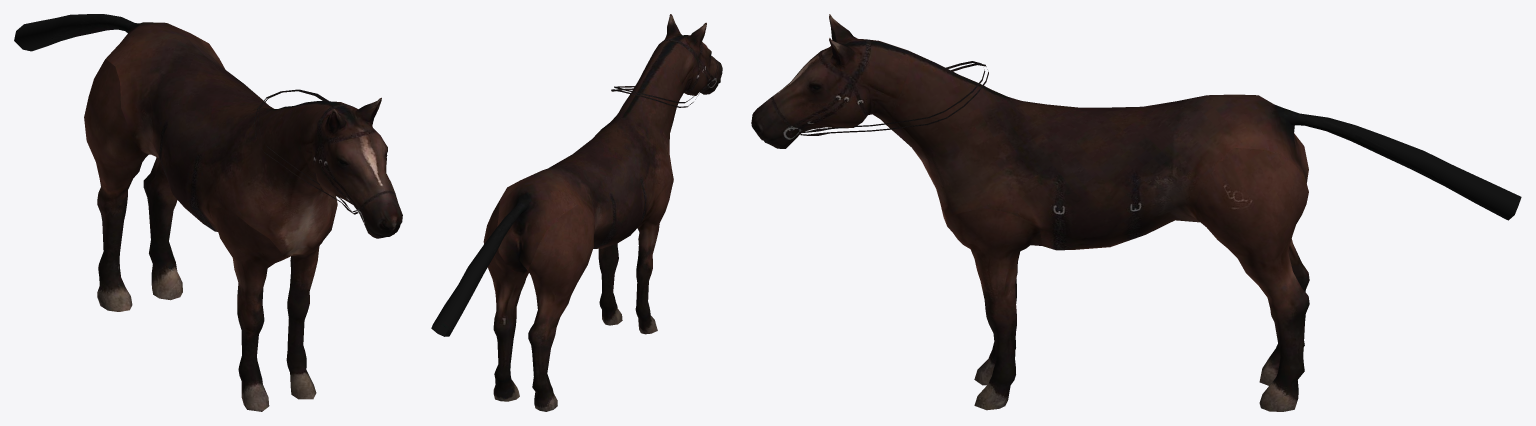
The model's file is Caballo3eraPersona.obj.
The picture shows the model from 3 angles, left to right: view 1: azimuth 30°, elevation 25°; view 2: azimuth 150°, elevation 25°; view 3: azimuth 270°, elevation 25°; orthographic projection. The views are drawn at different scales.
Visible parts, largest first — view 1: Null1; view 2: Null1; view 3: Null1.
Boxes of the visible parts, box(x1,y1,x2,y2) form: Null1: box(14, 14, 402, 411); Null1: box(431, 14, 722, 411); Null1: box(751, 14, 1521, 411).
Bounding box in the file's own units: 7.45 × 20 × 38.09.
